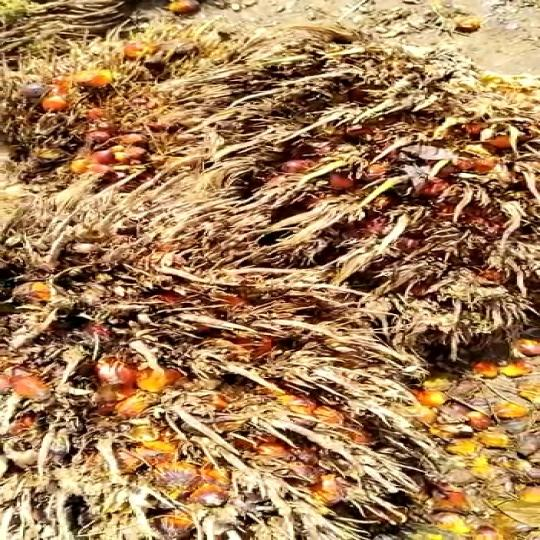terlalu masak: (0, 188, 423, 502)
